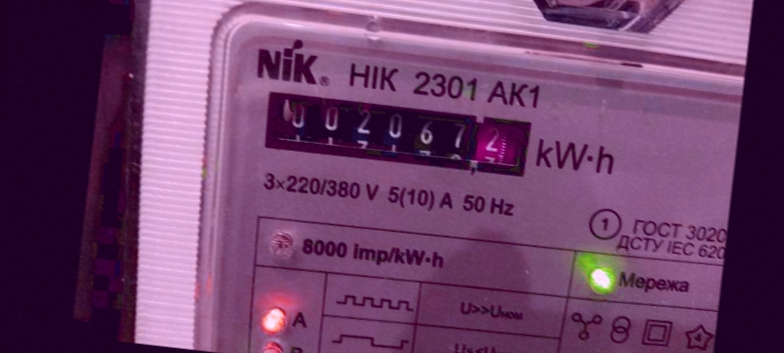0: (288, 100, 309, 131), (385, 109, 406, 139), (322, 102, 342, 133)
2: (483, 123, 504, 154), (355, 106, 375, 136)
6: (417, 116, 438, 146)
7: (450, 119, 469, 151)
screen: (248, 77, 548, 191)
